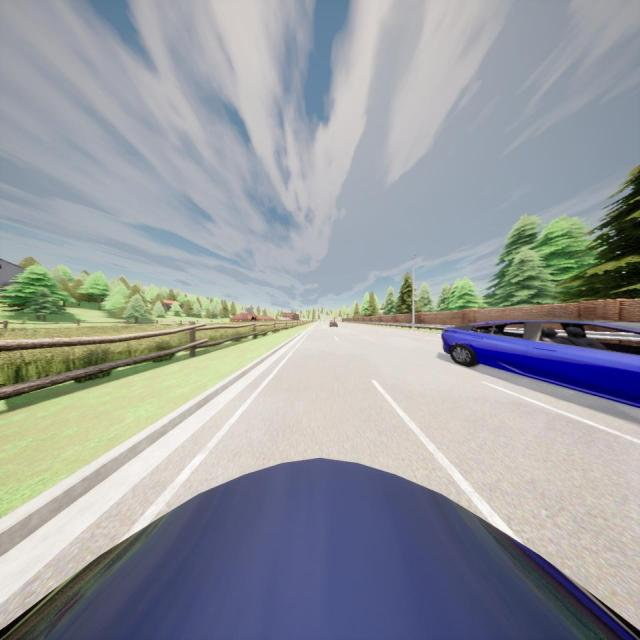Vehicle: (1, 456, 640, 640), (442, 321, 640, 406), (329, 320, 338, 328)
